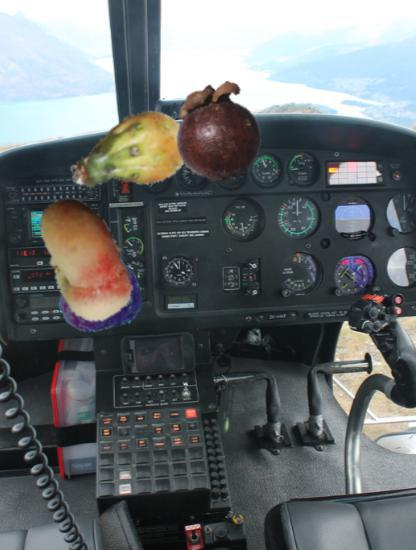Cactus: (69, 97, 193, 221)
Mangostan: (169, 82, 268, 181)
Peach: (18, 192, 150, 324)
Raspberry: (57, 252, 141, 336)
